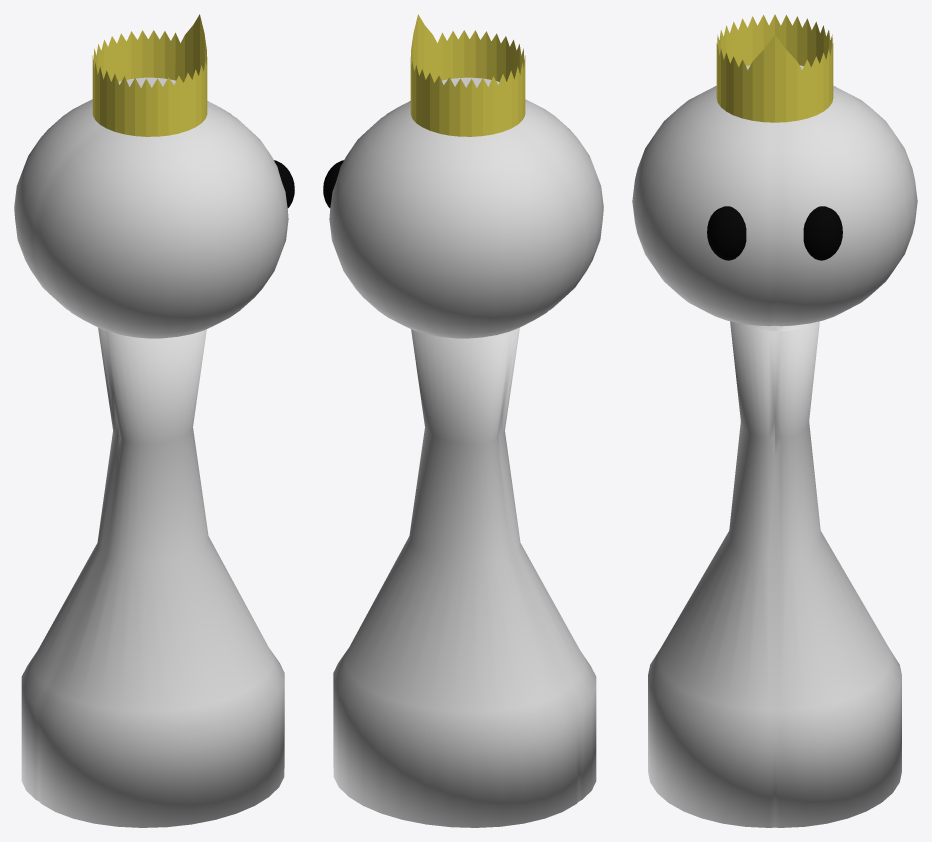
File: WhiteQueen.fbx
The picture shows the model from 3 angles, left to right: view 1: azimuth 30°, elevation 25°; view 2: azimuth 150°, elevation 25°; view 3: azimuth 270°, elevation 25°; orthographic projection.
Parts seen in each view (by area): view 1: WhiteQueen; view 2: WhiteQueen; view 3: WhiteQueen.
Part boxes in pixels (x1,y1,x2,y2): WhiteQueen: (14, 14, 294, 827); WhiteQueen: (323, 14, 603, 827); WhiteQueen: (632, 14, 917, 827).
Size of the model in its own units: 65.33 by 199 by 67.75.
